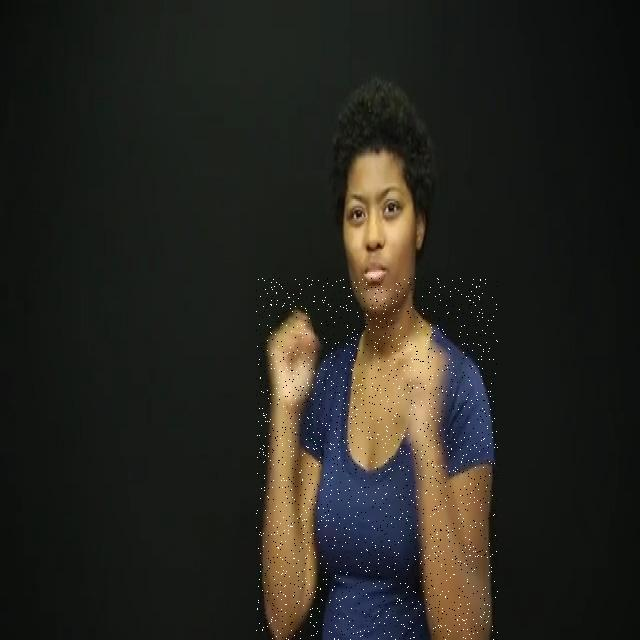cold: (256, 278, 498, 640)
